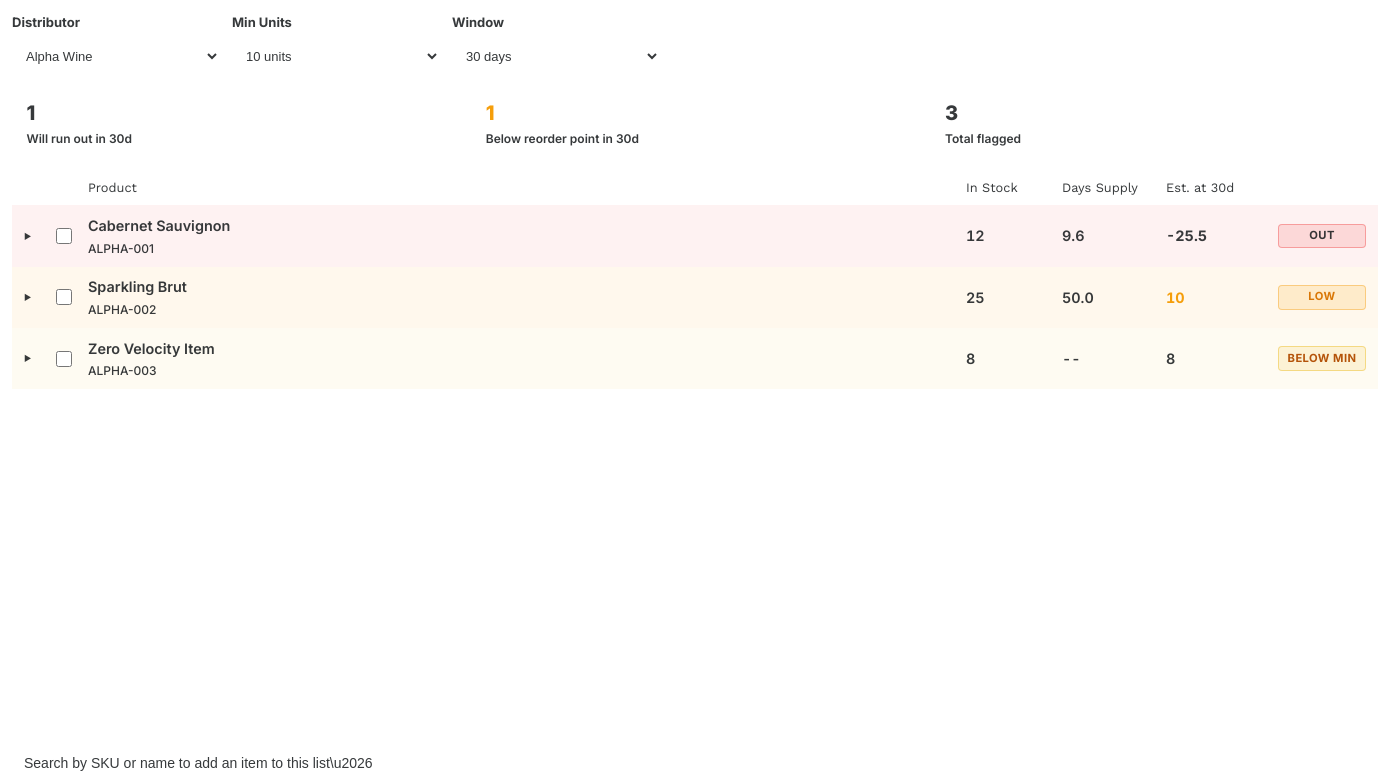
Test: ReorderDashboard › velocity is shown in expanded body, not in collapsed row
Expected: the text "1.25/day" is not shown
Note: Expand the first row
Click the text "Cabernet Sauvignon": (159, 226) top-left (88, 217), bottom-right (230, 234)
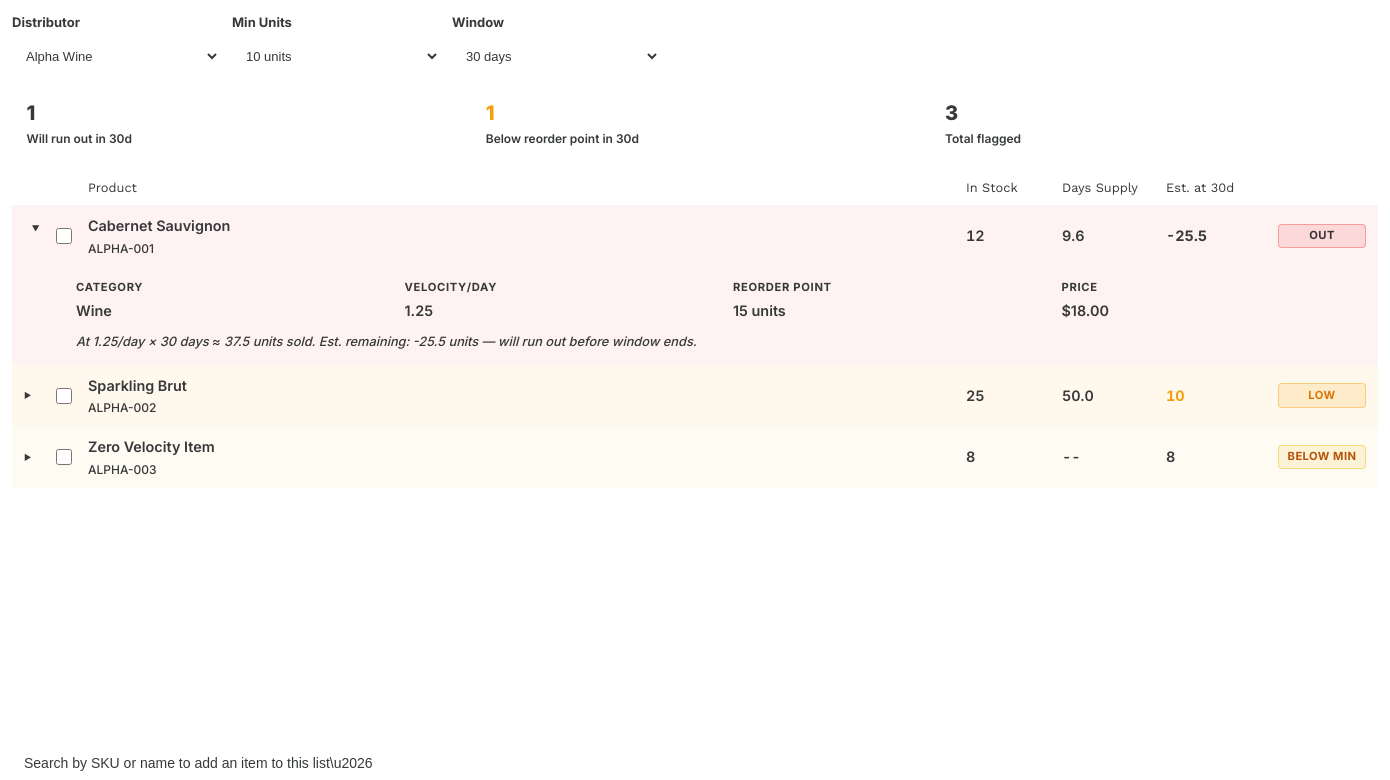
Now the text "1.25" is shown, box top-left (404, 302), bottom-right (433, 319)
